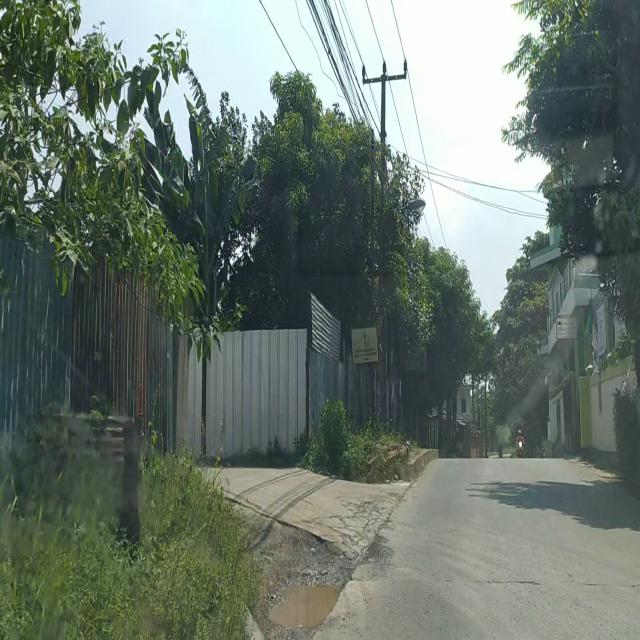Sewer Cover: (471, 577, 640, 591)
